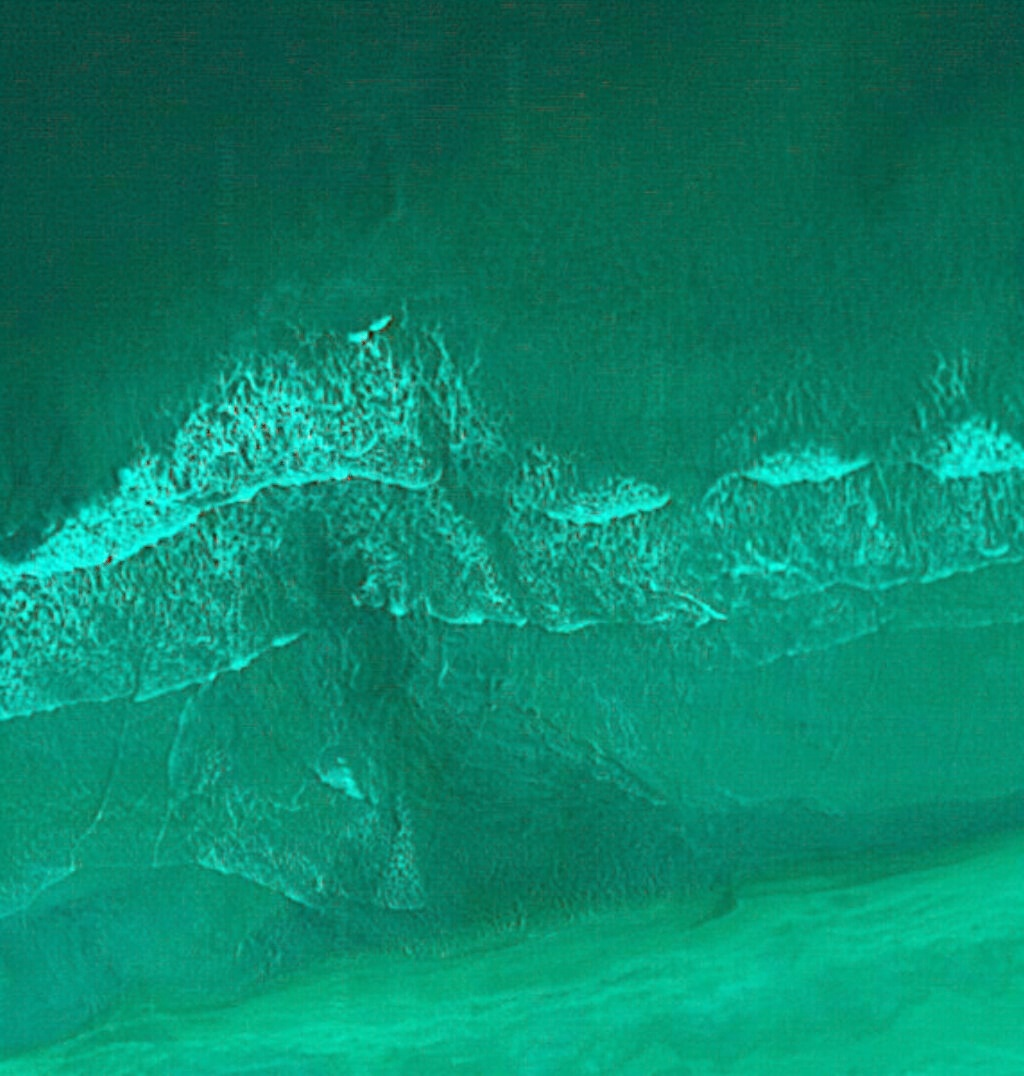rip_current: (176, 280, 578, 848)
